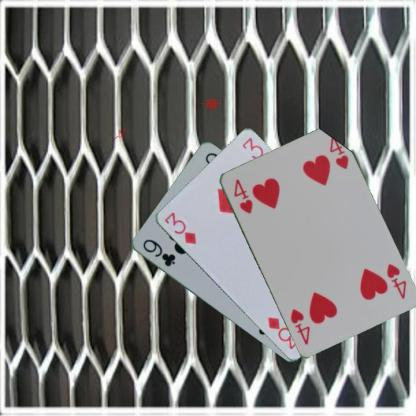3d: (161, 209, 197, 246)
4h: (384, 260, 407, 300), (231, 176, 254, 215)
9c: (140, 236, 177, 268)
